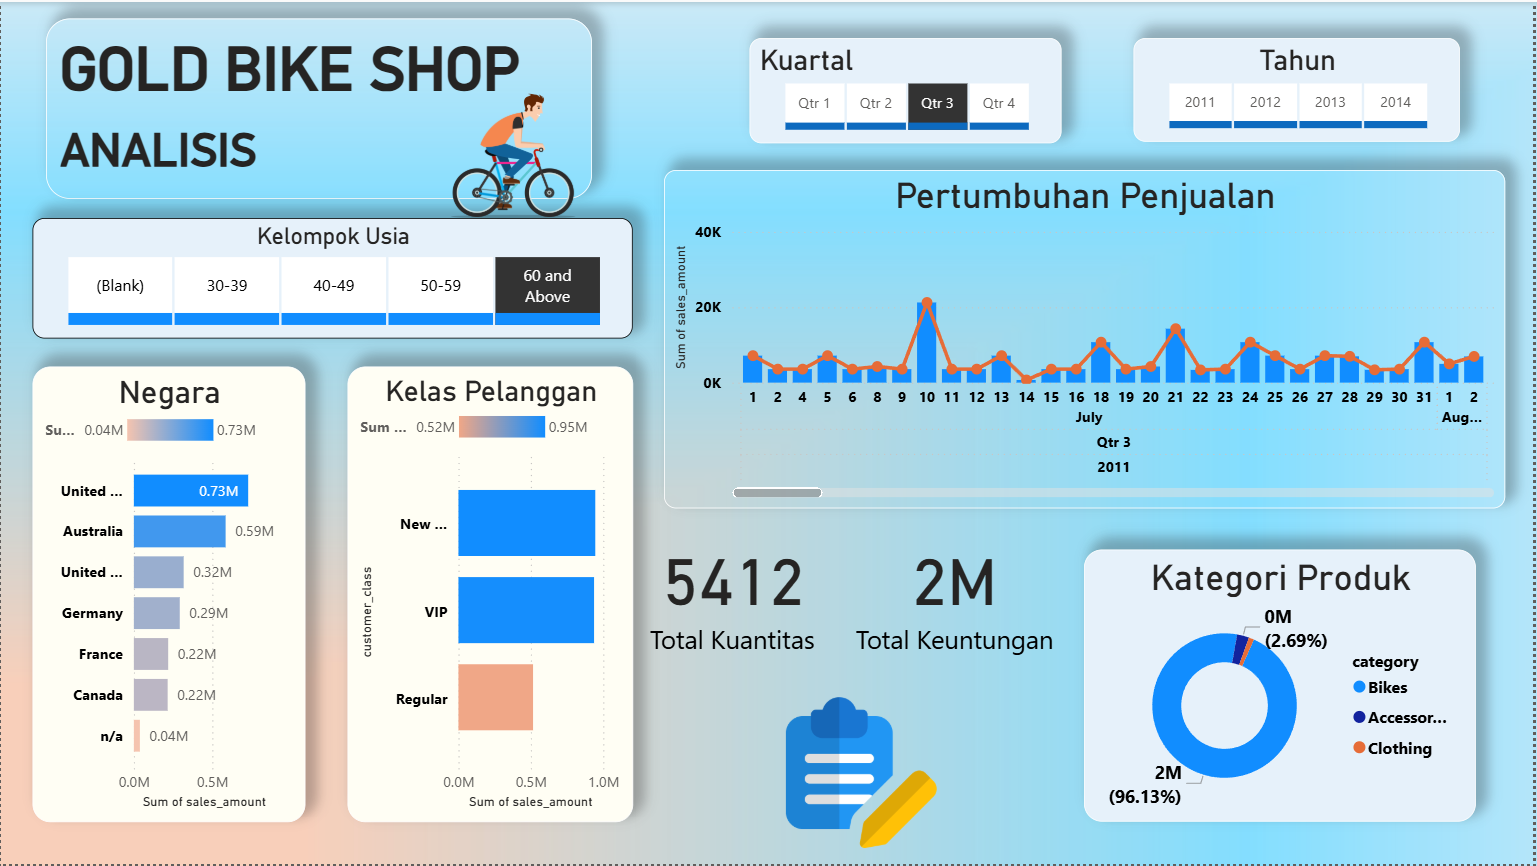

Layout of this report page (visuals, bound fields, positions):
{"tool":"powerbi","page":{"name":"Halaman_utama","canvas":[1280,720],"ordinal":0},"visuals":[{"type":"lineClusteredColumnComboChart","title":"Pertumbuhan Penjualan","fields":{"Y":["Sum(warehouse gold_fact_sales.sales_amount)"],"Category":["warehouse gold_fact_sales.shipping_date.Variation.Date Hierarchy.Year","warehouse gold_fact_sales.shipping_date.Variation.Date Hierarchy.Quarter","warehouse gold_fact_sales.shipping_date.Variation.Date Hierarchy.Month","warehouse gold_fact_sales.shipping_date.Variation.Date Hierarchy.Day"],"Y2":["Sum(warehouse gold_fact_sales.sales_amount)"]},"box":[553.3,139.9,702.6,282.9],"z":0},{"type":"slicer","title":"Tahun","fields":{"Values":["warehouse gold_fact_sales.shipping_date.Variation.Date Hierarchy.Year"]},"box":[946,30.3,272.9,86.4],"z":1000},{"type":"slicer","title":"Kuartal","fields":{"Values":["warehouse gold_fact_sales.shipping_date.Variation.Date Hierarchy.Quarter"]},"box":[624.6,30.3,260.8,87.9],"z":2000},{"type":"barChart","title":"Negara","fields":{"Category":["customer_reports_fixed.country"],"Y":["Sum(warehouse gold_fact_sales.sales_amount)"]},"box":[26.7,304.9,227.9,380.4],"z":3000},{"type":"donutChart","title":"Kategori Produk","fields":{"Category":["warehouse product_report.category"],"Y":["Sum(warehouse gold_fact_sales.sales_amount)"]},"box":[905.1,457.8,327.5,227.4],"z":4000},{"type":"barChart","title":"Kelas Pelanggan","fields":{"Category":["customer_reports_fixed.customer_class"],"Y":["Sum(warehouse gold_fact_sales.sales_amount)"]},"box":[289.2,304.9,238.9,380.4],"z":5000},{"type":"card","fields":{"Values":["Sum(warehouse gold_fact_sales.sales_amount)"]},"box":[706.5,433.6,178.9,116.7],"z":6000},{"type":"card","fields":{"Values":["Sum(warehouse gold_fact_sales.quantity)"]},"box":[515.4,423,191,136.4],"z":7000},{"type":"textbox","box":[37.7,14.1,455.8,150.9],"z":8000},{"type":"image","box":[650.4,571.5,136.4,144],"z":9000},{"type":"slicer","title":"Kelompok Usia","fields":{"Values":["customer_reports_fixed.age_group"]},"box":[26.7,180.8,501.4,100.6],"z":10000},{"type":"image","box":[360.8,56.1,133.4,144],"z":11000}]}

Visuals, with their boxes in screenshot pixels (x1, y1, x2, y2), scaled from the page's 1280x720 canvas onto the 1537x866 screenshot:
"Pertumbuhan Penjualan" lineClusteredColumnComboChart: {"left": 664, "top": 168, "right": 1508, "bottom": 509}
"Tahun" slicer: {"left": 1136, "top": 36, "right": 1464, "bottom": 140}
"Kuartal" slicer: {"left": 750, "top": 36, "right": 1063, "bottom": 142}
"Negara" barChart: {"left": 32, "top": 367, "right": 306, "bottom": 824}
"Kategori Produk" donutChart: {"left": 1087, "top": 551, "right": 1480, "bottom": 824}
"Kelas Pelanggan" barChart: {"left": 347, "top": 367, "right": 634, "bottom": 824}
card - Sum(warehouse gold_fact_sales.sales_amount): {"left": 848, "top": 522, "right": 1063, "bottom": 662}
card - Sum(warehouse gold_fact_sales.quantity): {"left": 619, "top": 509, "right": 848, "bottom": 673}
textbox: {"left": 45, "top": 17, "right": 593, "bottom": 198}
image: {"left": 781, "top": 687, "right": 945, "bottom": 861}
"Kelompok Usia" slicer: {"left": 32, "top": 217, "right": 634, "bottom": 338}
image: {"left": 433, "top": 67, "right": 593, "bottom": 241}
